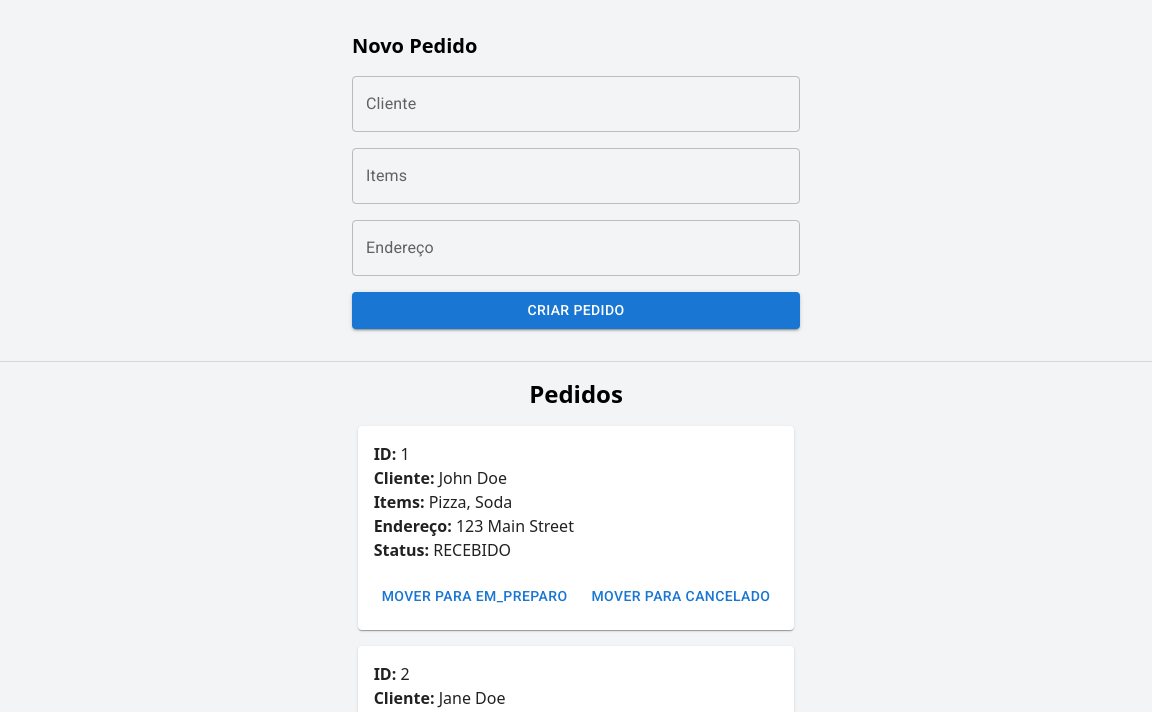
OrdersPage › shows an error when updating an order status fails
The image size is (1152, 712).
Check: the element with test id "order-1" is shown, box [358,426,794,630]
Click the button with test id "order-1-move-to-EM_PREPARO": x=474, y=596 [374,578,575,614]
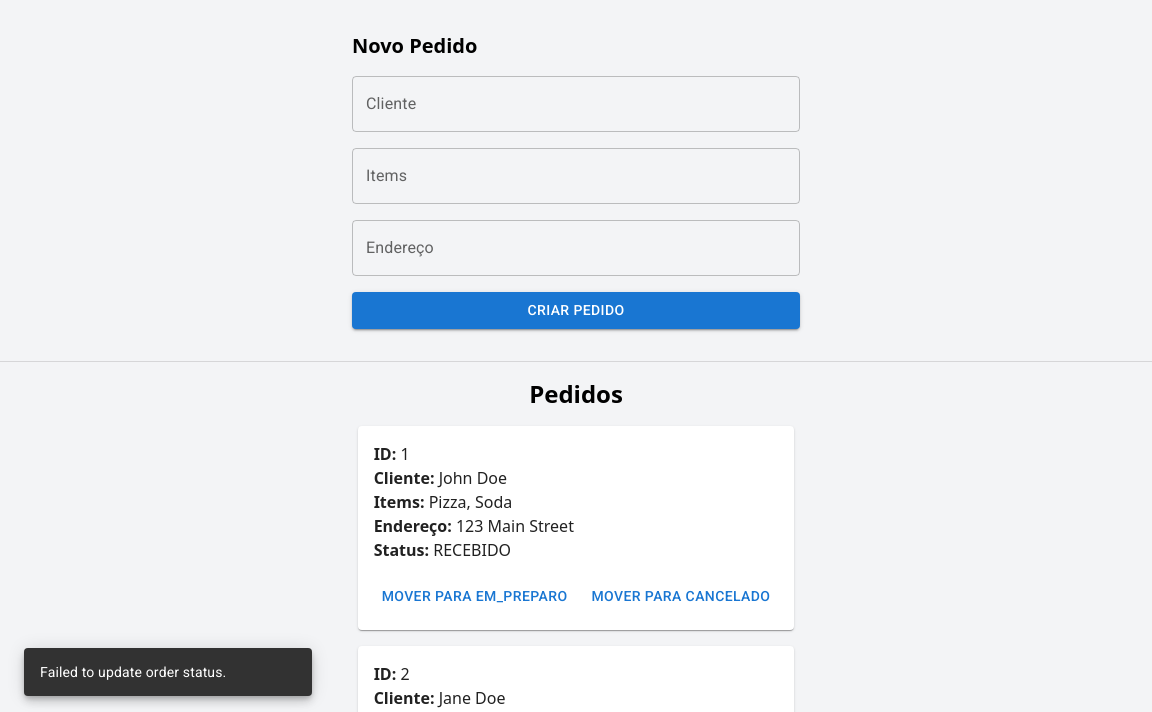
Check: the element with test id "orders-error" reads "Failed to update order status.", box [40,664,226,680]
